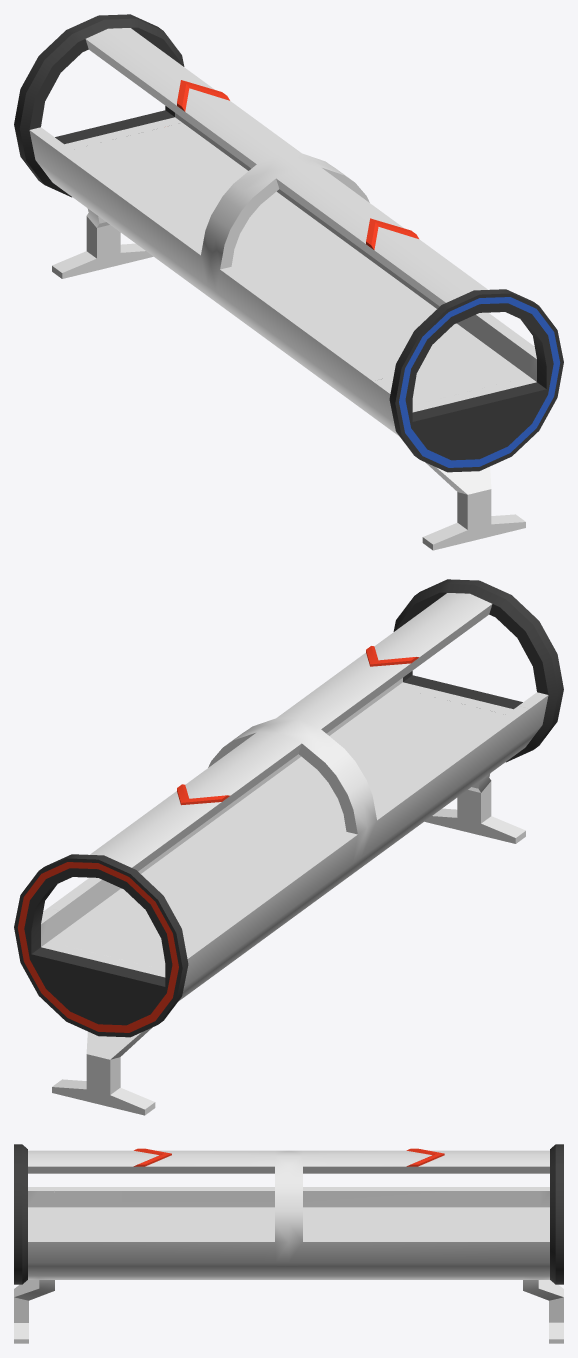
Rendered from ConveyorHousing_Straight.fbx.
3 views of the same model, one above another, from view 1: azimuth 30°, elevation 25°; view 2: azimuth 150°, elevation 25°; view 3: azimuth 270°, elevation 25° (orthographic). The views are drawn at different scales.
Parts seen in each view (by area): view 1: ConveyorHousing_S; view 2: ConveyorHousing_S; view 3: ConveyorHousing_S.
Part boxes in pixels (x1,y1,x2,y2): ConveyorHousing_S: (14, 14, 563, 550); ConveyorHousing_S: (14, 579, 563, 1115); ConveyorHousing_S: (14, 1144, 563, 1343).
Size of the model in its own units: 25.56 by 35.41 by 100.
